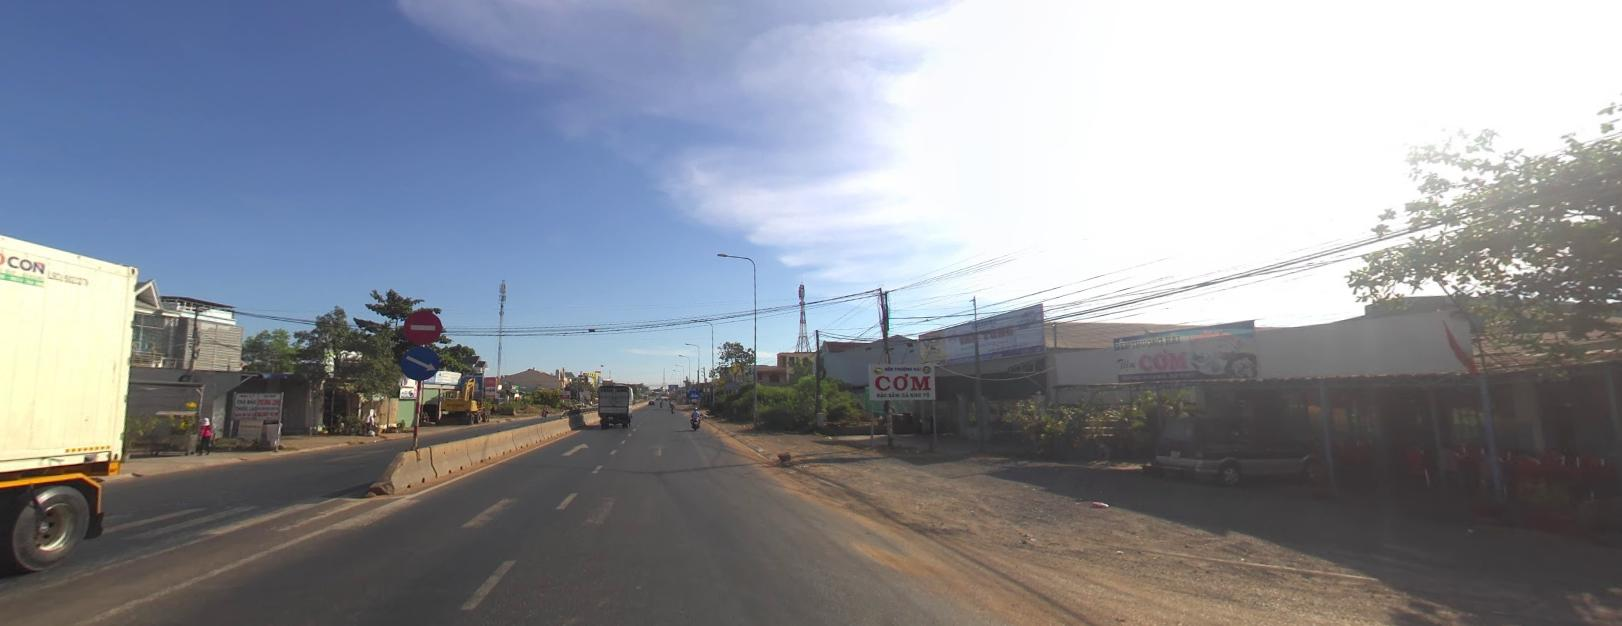Cam nguoc chieu: (403, 307, 442, 342), (404, 308, 442, 342), (403, 308, 441, 342), (404, 308, 441, 341)
Hieu lenh: (398, 342, 441, 379), (399, 344, 439, 378), (401, 344, 440, 378), (401, 345, 439, 377)
